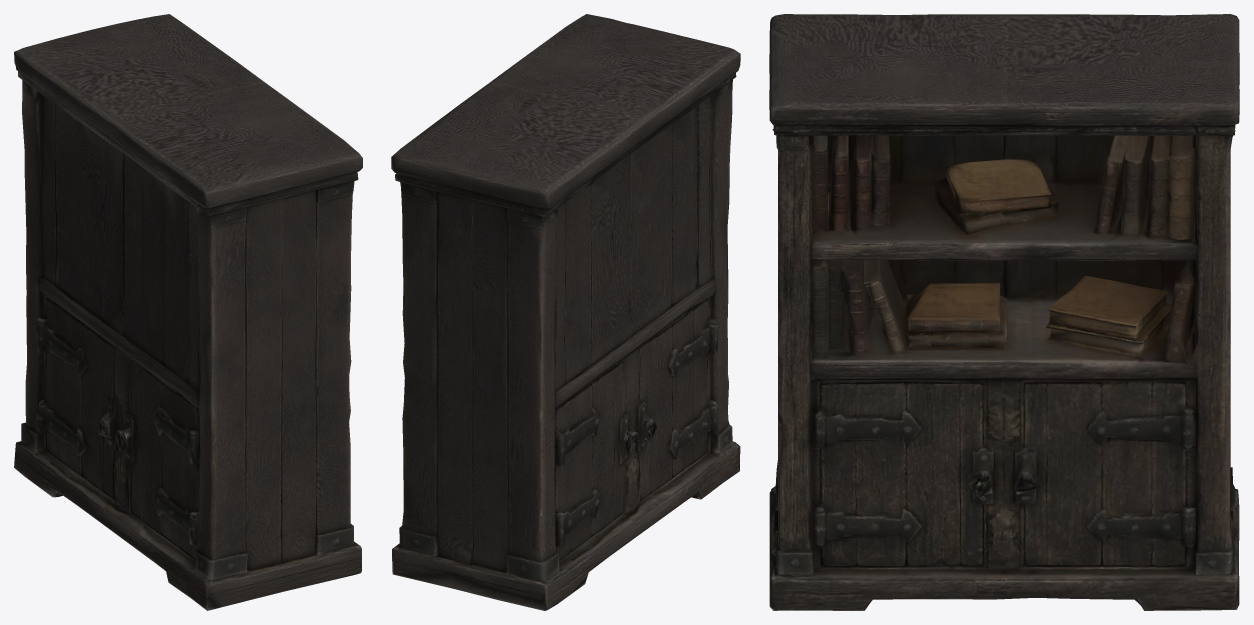
Rendered from archive-cupboard.glb.
3 renders of one model, left to right at view 1: azimuth 30°, elevation 25°; view 2: azimuth 150°, elevation 25°; view 3: azimuth 270°, elevation 25°, orthographic. The views are drawn at different scales.
Visible parts, largest first — view 1: tripo_node_000b705b-57c4-47ed-9c36-747379d8e124; view 2: tripo_node_000b705b-57c4-47ed-9c36-747379d8e124; view 3: tripo_node_000b705b-57c4-47ed-9c36-747379d8e124.
Part boxes in pixels (x1,y1,x2,y2): tripo_node_000b705b-57c4-47ed-9c36-747379d8e124: (14, 14, 362, 610); tripo_node_000b705b-57c4-47ed-9c36-747379d8e124: (391, 14, 740, 610); tripo_node_000b705b-57c4-47ed-9c36-747379d8e124: (769, 14, 1239, 610).
Size of the model in its own units: 0.3914 by 1 by 0.8355.
1 material, 1 textured.
